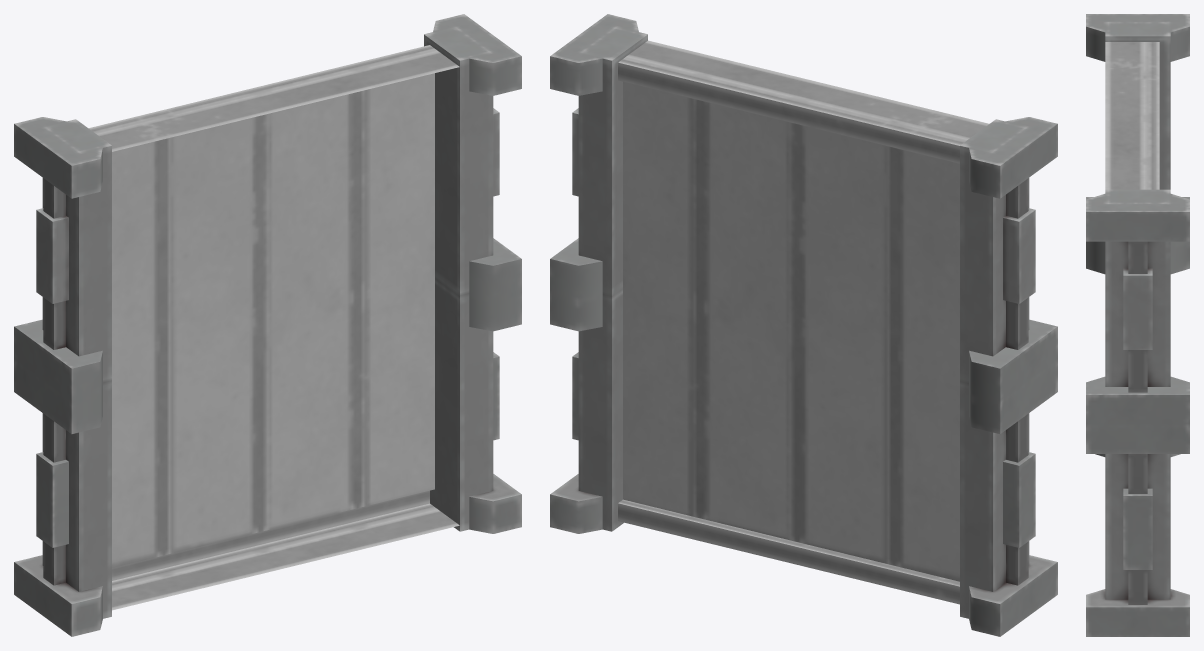
Rendered from Pfb_JALB_WallPart2.fbx.
The picture shows the model from 3 angles, left to right: view 1: azimuth 30°, elevation 25°; view 2: azimuth 150°, elevation 25°; view 3: azimuth 270°, elevation 25°; orthographic projection. The views are drawn at different scales.
Visible parts, largest first — view 1: MAT_Roof; view 2: MAT_Roof; view 3: MAT_Roof.
Boxes of the visible parts, x1,y1,x2,y2 form: MAT_Roof: [14, 14, 521, 636]; MAT_Roof: [550, 14, 1057, 636]; MAT_Roof: [1086, 14, 1189, 636].
Bounding box in the file's own units: 4 × 4 × 0.8872.
1 material, 1 textured.
